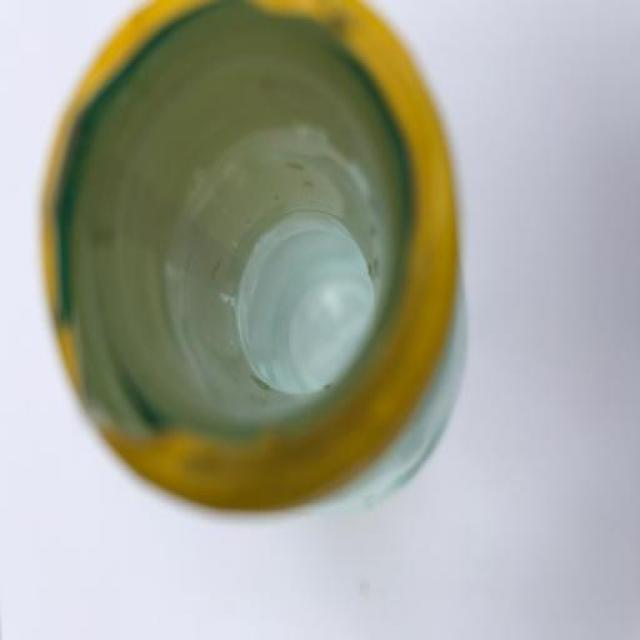glass: (41, 1, 501, 609)
